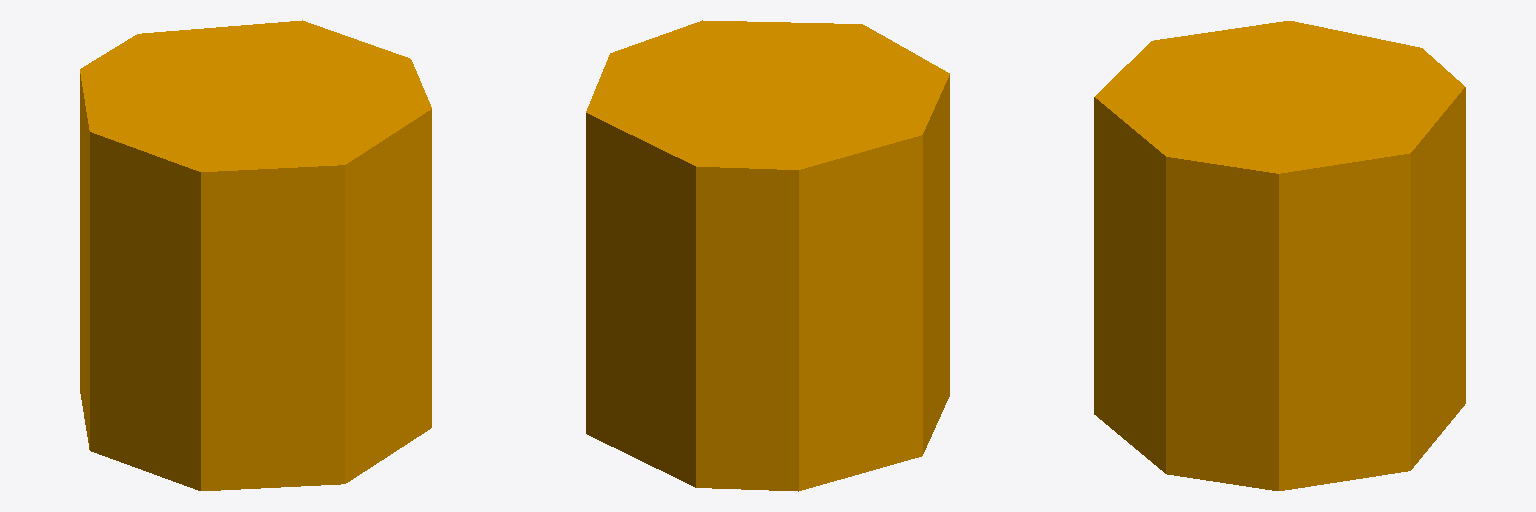
URDF robot description (object):
<?xml version="1.0"?>
<robot name="object">
  <link name="object">
    <visual>
      <origin xyz="0 0 0"/>
      <geometry>
        <mesh filename="meshes/generated/col_117.obj" scale="0.03 0.03 0.03"/>
      </geometry>
    </visual>
    <collision>
      <origin xyz="0 0 0"/>
      <geometry>
        <mesh filename="meshes/generated/col_117.obj" scale="0.03 0.03 0.03"/>
      </geometry>
    </collision>
    <inertial>
      <density value="1000.0"/>
    </inertial>
  </link>
</robot>

--- What the picture shows (computed from the rendered views, not written in the file) ---
The picture shows the robot from 3 angles, left to right: view 1: azimuth 30°, elevation 25°; view 2: azimuth 150°, elevation 25°; view 3: azimuth 270°, elevation 25°; orthographic projection.
Robot: object — 1 links, 0 joints (none); root link object; default pose: every joint at zero.
Visible links, largest first — view 1: object; view 2: object; view 3: object.
Boxes of the visible links, x1,y1,x2,y2 form: object: (80,20,431,490); object: (586,20,949,491); object: (1094,21,1465,490).
Size in the robot's own frame: 0.0622 by 0.0635 by 0.06 metres.
1 mesh visuals loaded from 1 distinct referenced files (1 OBJ).
